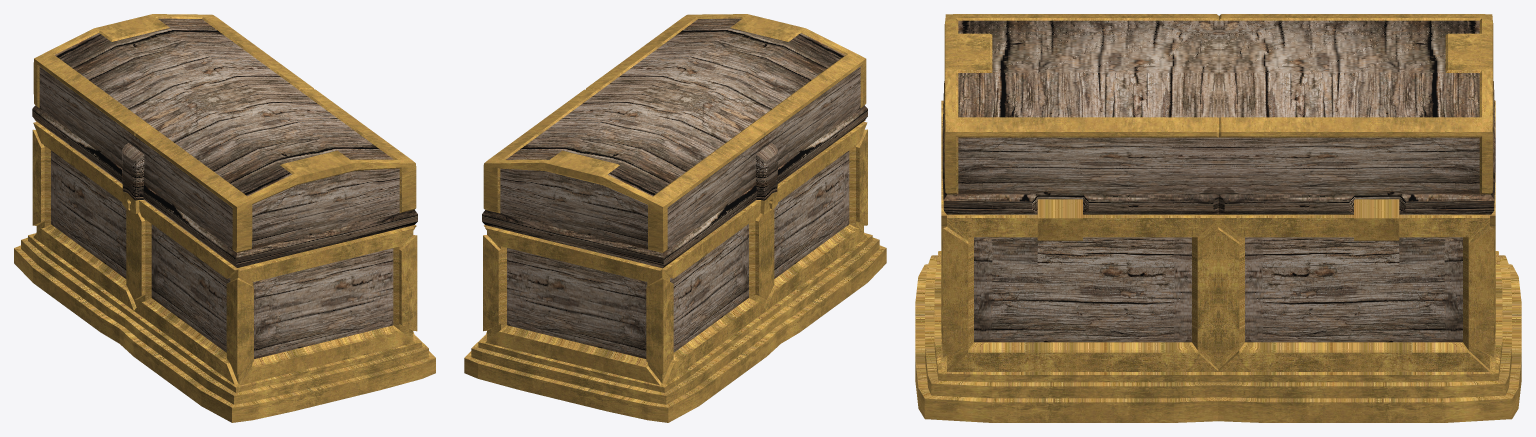
The model's file is chest.glb.
3 renders of one model, left to right at view 1: azimuth 30°, elevation 25°; view 2: azimuth 150°, elevation 25°; view 3: azimuth 270°, elevation 25°, orthographic. The views are drawn at different scales.
Parts seen in each view (by area): view 1: Box002, Box003; view 2: Box002, Box003; view 3: Box002, Box003.
Part boxes in pixels (box(x1,y1,x2,y2)): Box002: box(14, 120, 435, 422); Box003: box(32, 14, 417, 267); Box002: box(464, 120, 886, 422); Box003: box(482, 14, 867, 268); Box002: box(915, 100, 1521, 422); Box003: box(942, 14, 1495, 214).
Size of the model in its own units: 36.98 by 36.55 by 66.85.
2 materials, 2 textured.
